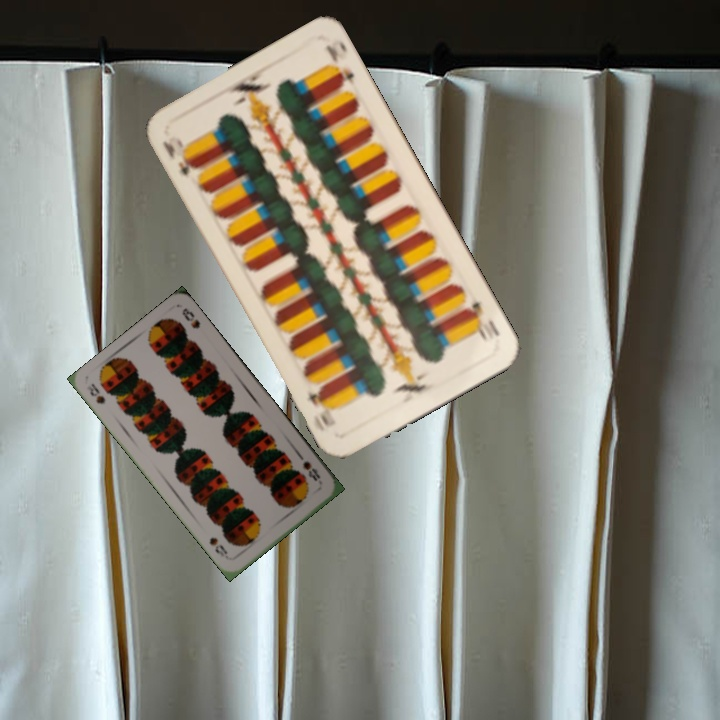E10: (158, 132, 200, 179), (461, 297, 502, 344)
S8: (83, 379, 108, 407), (299, 457, 323, 484)
